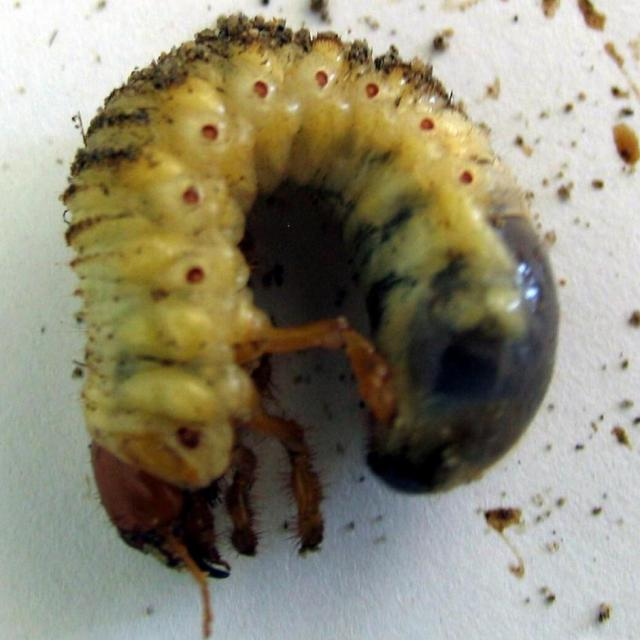Grub-Adult-: (50, 6, 571, 556)
